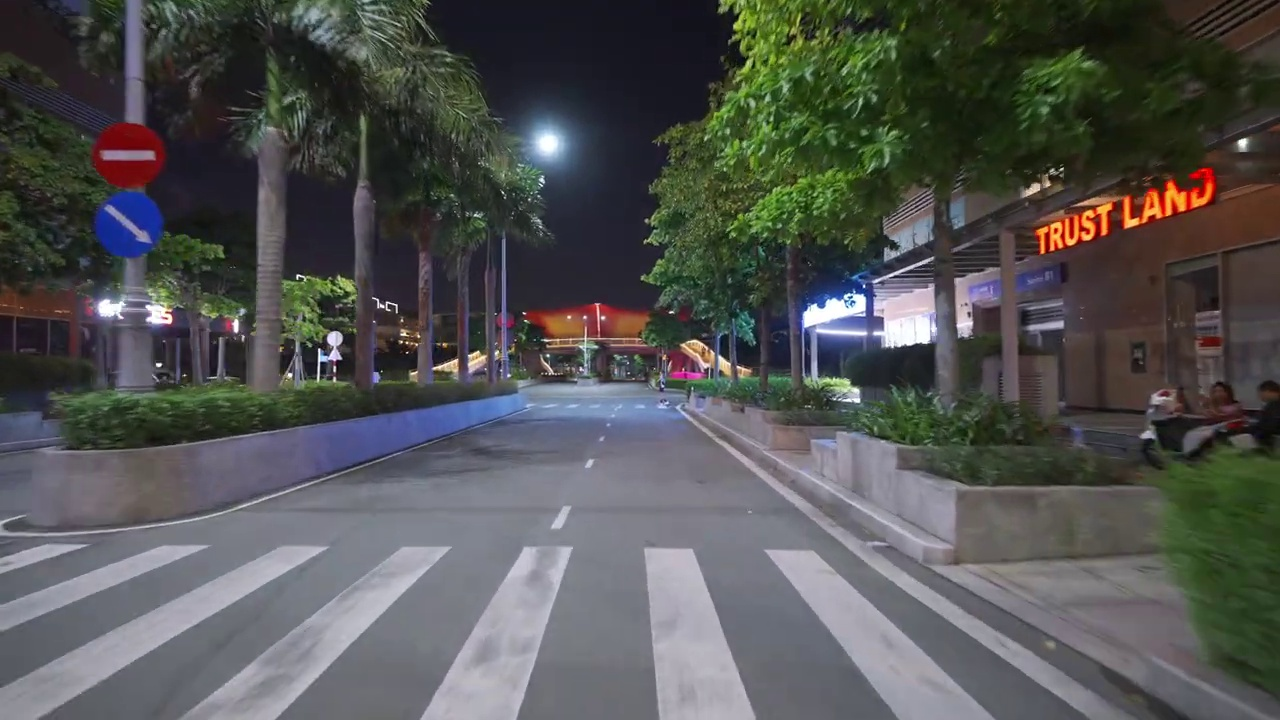cam_nguoc_chieu: (91, 122, 165, 188)
huong_phai_di_vong: (94, 191, 165, 257)
